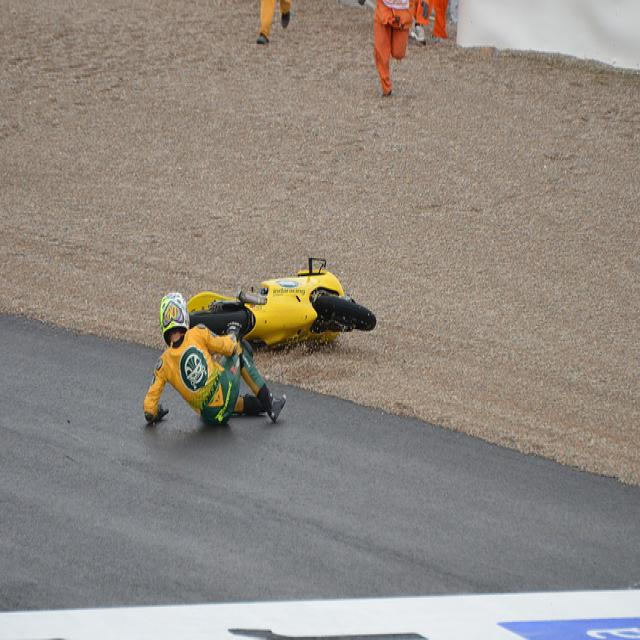motor: (190, 263, 376, 354)
